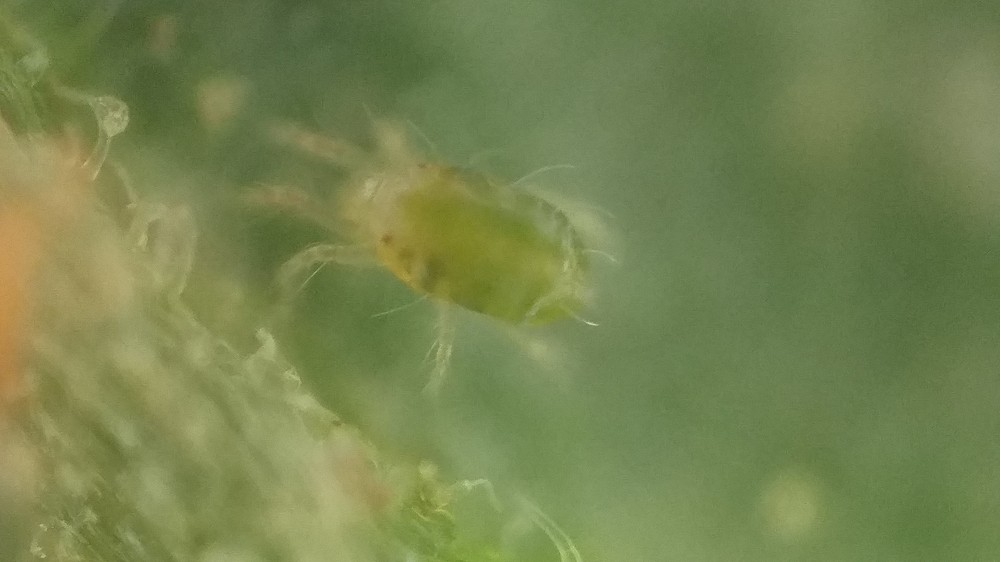Aracnido Rojo: (252, 101, 626, 394)
